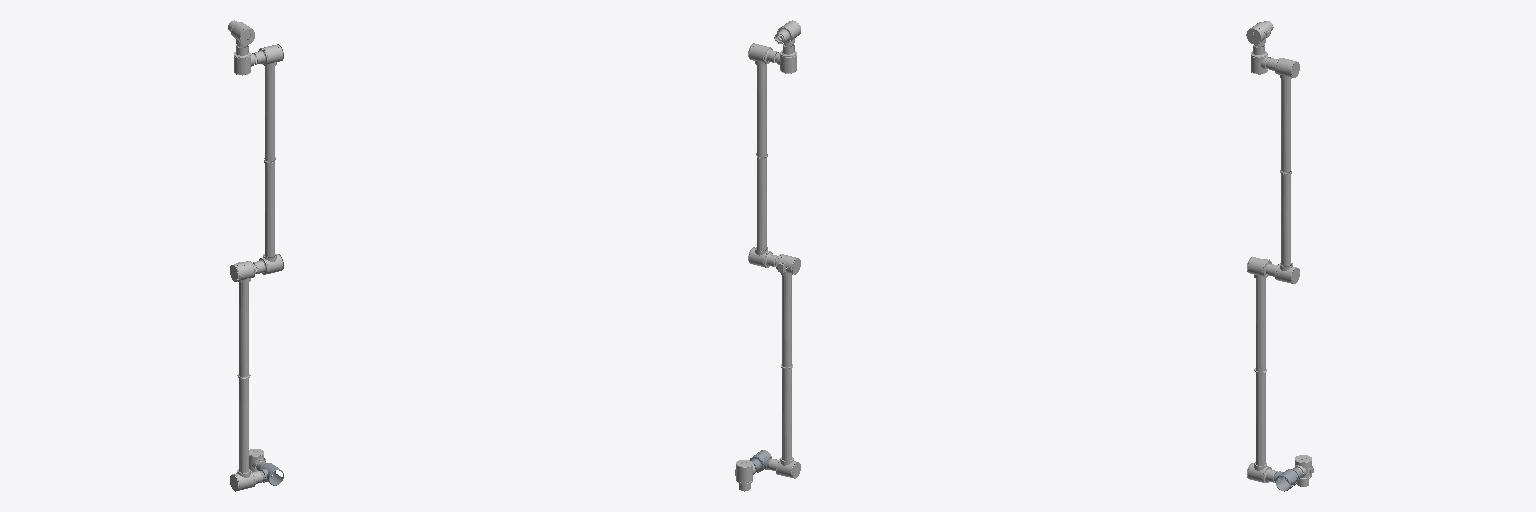
URDF robot description (modified-urdf):
<?xml version="1.0" encoding="utf-8"?>
<!-- This URDF was automatically created by SolidWorks to URDF Exporter! Originally created by Stephen Brawner ([email redacted]) 
     Commit Version: 1.6.0-4-g7f85cfe  Build Version: 1.6.7995.38578
     For more information, please see http://wiki.ros.org/sw_urdf_exporter -->
<robot
  name="modified-urdf">
  
  <!-- <link name="dummy">
   </link>
   -->

  <link
    name="base_link">
    <!-- <inertial>
      <origin
        xyz="-0.000102439540484452 -4.24318469948171E-05 0.0443842390944291"
        rpy="0 0 0" />
      <mass
        value="5.02870680905452" />
      <inertia
        ixx="0.0168085696058268"
        ixy="1.16528195399746E-05"
        ixz="1.139267801419E-05"
        iyy="0.0167852639667468"
        iyz="4.71900174522664E-06"
        izz="0.0284237575746705" />
    </inertial> -->
    <visual>
      <origin
        xyz="0 0 0"
        rpy="0 0 0" />
        <!-- rpy="0 1.5707963 0" /> -->
      <geometry>
        <mesh
          filename="package://modified-urdf/meshes/base_link.STL" />
      </geometry>
      <material
        name="">
        <color
          rgba="0.752941176470588 0.752941176470588 0.752941176470588 1" />
      </material>
    </visual>
    <collision>
      <origin
        xyz="0 0 0"
        rpy="0 0 0" />
      <geometry>
        <mesh
          filename="package://modified-urdf/meshes/base_link.STL" />
      </geometry>
    </collision>
  </link>
  


  <!-- <joint name="dummy_joint" type="fixed">
     <parent link="dummy"/>
     <child link="base_link"/>
   </joint> -->
  

  <link
    name="Link1">
    <inertial>
      <origin
        xyz="0.00924314639993756 -0.0341031240961068 0.303904275365653"
        rpy="0 0 0" />
      <mass
        value="62.445042816445" />
      <inertia
        ixx="0.735915359019835"
        ixy="6.48450703125994E-06"
        ixz="2.10178624471385E-07"
        iyy="0.961891701919655"
        iyz="0.0220499843347301"
        izz="1.01616551312606" />
    </inertial>
    <visual>
      <origin
        xyz="0 0 0"
        rpy="0 0 0" />
      <geometry>
        <mesh
          filename="package://modified-urdf/meshes/Link1.STL" />
      </geometry>
      <material
        name="">
        <color
          rgba="0.752941176470588 0.752941176470588 0.752941176470588 1" />
      </material>
    </visual>
    <collision>
      <origin
        xyz="0 0 0"
        rpy="0 0 0" />
      <geometry>
        <mesh
          filename="package://modified-urdf/meshes/Link1.STL" />
      </geometry>
    </collision>
  </link>
  <joint
    name="joint1"
    type="continuous">
    <origin
      xyz="0 0 0"
      rpy="0 0 0" />
      <!-- rpy="0 0 0" /> -->
    <parent
      link="base_link" />
    <child
      link="Link1" />
    <axis
      xyz="0 0 1" />
  </joint>
  <link
    name="Link2">
    <inertial>
      <origin
        xyz="-0.0457439349762747 3.40457110702189E-06 0.546517222185781"
        rpy="0 0 0" />
      <mass
        value="49.5633951862742" />
      <inertia
        ixx="0.868219502489107"
        ixy="3.89842363679085E-06"
        ixz="0.0220552257203204"
        iyy="0.640453509202906"
        iyz="-2.17405784848322E-07"
        izz="0.844530203798031" />
    </inertial>
    <visual>
      <origin
        xyz="0 0 0"
        rpy="0 0 0" />
      <geometry>
        <mesh
          filename="package://modified-urdf/meshes/Link2.STL" />
      </geometry>
      <material
        name="">
        <color
          rgba="0.615686274509804 0.643137254901961 0.674509803921569 1" />
      </material>
    </visual>
    <collision>
      <origin
        xyz="0 0 0"
        rpy="0 0 0" />
      <geometry>
        <mesh
          filename="package://modified-urdf/meshes/Link2.STL" />
      </geometry>
    </collision>
  </link>
  <joint
    name="joint2"
    type="continuous">
    <origin
      xyz="0 0 0.3645"
      rpy="1.5708 0 0" />
    <parent
      link="Link1" />
    <child
      link="Link2" />
    <axis
      xyz="0 0 1" />
  </joint>
  <link
    name="Link3">
    <inertial>
      <origin
        xyz="2.22193252314176 0.00936902863809369 0.582526199273398"
        rpy="0 0 0" />
      <mass
        value="201.998365496445" />
      <inertia
        ixx="2.61445826138494"
        ixy="-0.00023518055459479"
        ixz="-8.77632147218228E-05"
        iyy="27.4190505829046"
        iyz="0.00111816323128687"
        izz="28.019505792014" />
    </inertial>
    <visual>
      <origin
        xyz="0 0 0"
        rpy="0 0 0" />
      <geometry>
        <mesh
          filename="package://modified-urdf/meshes/Link3.STL" />
      </geometry>
      <material
        name="">
        <color
          rgba="0.752941176470588 0.752941176470588 0.752941176470588 1" />
      </material>
    </visual>
    <collision>
      <origin
        xyz="0 0 0"
        rpy="0 0 0" />
      <geometry>
        <mesh
          filename="package://modified-urdf/meshes/Link3.STL" />
      </geometry>
    </collision>
  </link>
  <joint
    name="joint3"
    type="continuous">
    <origin
      xyz="0 0 0.6115"
      rpy="-1.5708 0 1.5708" />
    <parent
      link="Link2" />
    <child
      link="Link3" />
    <axis
      xyz="0 0 1" />
  </joint>
  <link
    name="Link4">
    <inertial>
      <origin
        xyz="2.2070786458686 4.8017145815038E-14 0.07504569818959"
        rpy="0 0 0" />
      <mass
        value="183.457599764746" />
      <inertia
        ixx="2.53709277362911"
        ixy="-9.94222223206443E-06"
        ixz="-5.56493532654666E-13"
        iyy="27.3741339868543"
        iyz="-2.7636473050812E-15"
        izz="27.9528706848379" />
    </inertial>
    <visual>
      <origin
        xyz="0 0 0"
        rpy="0 0 0" />
      <geometry>
        <mesh
          filename="package://modified-urdf/meshes/Link4.STL" />
      </geometry>
      <material
        name="">
        <color
          rgba="0.752941176470588 0.752941176470588 0.752941176470588 1" />
      </material>
    </visual>
    <collision>
      <origin
        xyz="0 0 0"
        rpy="0 0 0" />
      <geometry>
        <mesh
          filename="package://modified-urdf/meshes/Link4.STL" />
      </geometry>
    </collision>
  </link>
  <joint
    name="joint4"
    type="continuous">
    <origin
      xyz="4.44 0 0"
      rpy="0 0 0" />
    <parent
      link="Link3" />
    <child
      link="Link4" />
    <axis
      xyz="0 0 1" />
  </joint>
  <link
    name="Link5">
    <inertial>
      <origin
        xyz="0.061586204857095 1.05653504353098E-05 0.608576160826187"
        rpy="0 0 0" />
      <mass
        value="59.6432899162148" />
      <inertia
        ixx="1.01756000289118"
        ixy="2.12975029004085E-07"
        ixz="-0.0220602554183906"
        iyy="0.731371924523554"
        iyz="4.97108965286659E-06"
        izz="0.960550803962778" />
    </inertial>
    <visual>
      <origin
        xyz="0 0 0"
        rpy="0 0 0" />
      <geometry>
        <mesh
          filename="package://modified-urdf/meshes/Link5.STL" />
      </geometry>
      <material
        name="">
        <color
          rgba="0.752941176470588 0.752941176470588 0.752941176470588 1" />
      </material>
    </visual>
    <collision>
      <origin
        xyz="0 0 0"
        rpy="0 0 0" />
      <geometry>
        <mesh
          filename="package://modified-urdf/meshes/Link5.STL" />
      </geometry>
    </collision>
  </link>
  <joint
    name="joint5"
    type="continuous">
    <origin
      xyz="4.44 0 0"
      rpy="0 0 0" />
    <parent
      link="Link4" />
    <child
      link="Link5" />
    <axis
      xyz="0 0 1" />
  </joint>
  <link
    name="Link6">
    <inertial>
      <origin
        xyz="0.0565651488848765 -0.00921343615290959 0.579109170613469"
        rpy="0 0 0" />
      <mass
        value="66.1853346554282" />
      <inertia
        ixx="1.08557784297917"
        ixy="2.10105135824689E-07"
        ixz="-0.0220499834923756"
        iyy="0.771045679540709"
        iyz="-6.08675539312882E-06"
        izz="0.997025759953613" />
    </inertial>
    <visual>
      <origin
        xyz="0 0 0"
        rpy="0 0 0" />
      <geometry>
        <mesh
          filename="package://modified-urdf/meshes/Link6.STL" />
      </geometry>
      <material
        name="">
        <color
          rgba="0.752941176470588 0.752941176470588 0.752941176470588 1" />
      </material>
    </visual>
    <collision>
      <origin
        xyz="0 0 0"
        rpy="0 0 0" />
      <geometry>
        <mesh
          filename="package://modified-urdf/meshes/Link6.STL" />
      </geometry>
    </collision>
  </link>
  <joint
    name="joint6"
    type="continuous">
    <origin
      xyz="0 0 0.64448"
      rpy="1.5708 0 1.5708" />
    <parent
      link="Link5" />
    <child
      link="Link6" />
    <axis
      xyz="0 0 1" />
  </joint>
  <link
    name="Link7">
    <inertial>
      <origin
        xyz="-0.000102439540489274 4.24318469924856E-05 -0.0443842390944312"
        rpy="0 0 0" />
      <mass
        value="5.02870680905473" />
      <inertia
        ixx="0.0168085696058274"
        ixy="-1.16528195399855E-05"
        ixz="-1.13926780133075E-05"
        iyy="0.0167852639667475"
        iyz="4.71900174523449E-06"
        izz="0.0284237575746713" />
    </inertial>
    <visual>
      <origin
        xyz="0 0 0"
        rpy="0 0 0" />
      <geometry>
        <mesh
          filename="package://modified-urdf/meshes/Link7.STL" />
      </geometry>
      <material
        name="">
        <color
          rgba="0.752941176470588 0.752941176470588 0.752941176470588 1" />
      </material>
    </visual>
    <collision>
      <origin
        xyz="0 0 0"
        rpy="0 0 0" />
      <geometry>
        <mesh
          filename="package://modified-urdf/meshes/Link7.STL" />
      </geometry>
    </collision>
  </link>
  <joint
    name="joint7"
    type="continuous">
    <origin
      xyz="0.3645 0 0.6115"
      rpy="-1.5708 0 -1.5708" />
    <parent
      link="Link6" />
    <child
      link="Link7" />
    <axis
      xyz="0 0 1" />
  </joint>
</robot>

--- Facts derived from the render (not from the file) ---
The picture shows the robot from 3 angles, left to right: view 1: azimuth 30°, elevation 25°; view 2: azimuth 150°, elevation 25°; view 3: azimuth 330°, elevation 25°; orthographic projection.
Model modified-urdf with 8 links and 7 joints (7 continuous), rooted at base_link, posed all joints at 0.
Visible links, largest first — view 1: Link3, Link4; view 2: Link3, Link4; view 3: Link4, Link3.
Boxes of the visible links, <box> form: Link3: <box>230,261,262,491</box>; Link4: <box>252,44,283,274</box>; Link3: <box>769,254,800,478</box>; Link4: <box>748,43,778,267</box>; Link4: <box>1268,58,1299,283</box>; Link3: <box>1247,257,1277,482</box>.
Size in the robot's own frame: 1.03 by 0.991 by 10.02 metres.
Meshes: 8 distinct files referenced, 8 mesh visuals loaded (8 binary STL).
